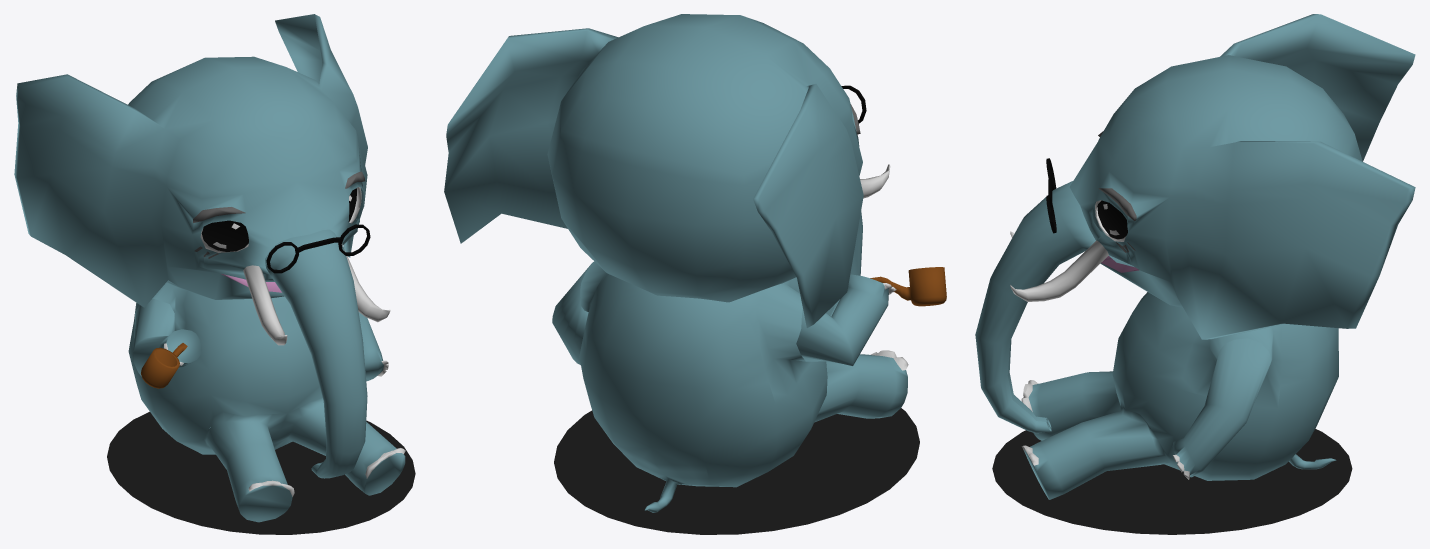
The model's file is eldo.glb.
The picture shows the model from 3 angles, left to right: view 1: azimuth 30°, elevation 25°; view 2: azimuth 150°, elevation 25°; view 3: azimuth 270°, elevation 25°; orthographic projection. The views are drawn at different scales.
Parts seen in each view (by area): view 1: 球.002; view 2: 球.002; view 3: 球.002.
Boxes of the visible parts, left/top/right/bottom form: 球.002: left=14, top=14, right=415, bottom=534; 球.002: left=444, top=14, right=946, bottom=534; 球.002: left=975, top=14, right=1415, bottom=534.
Bounding box in the file's own units: 1.83 × 2.2 × 2.19.
